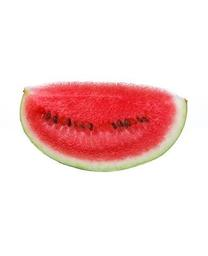watermelon: (17, 79, 190, 173)
